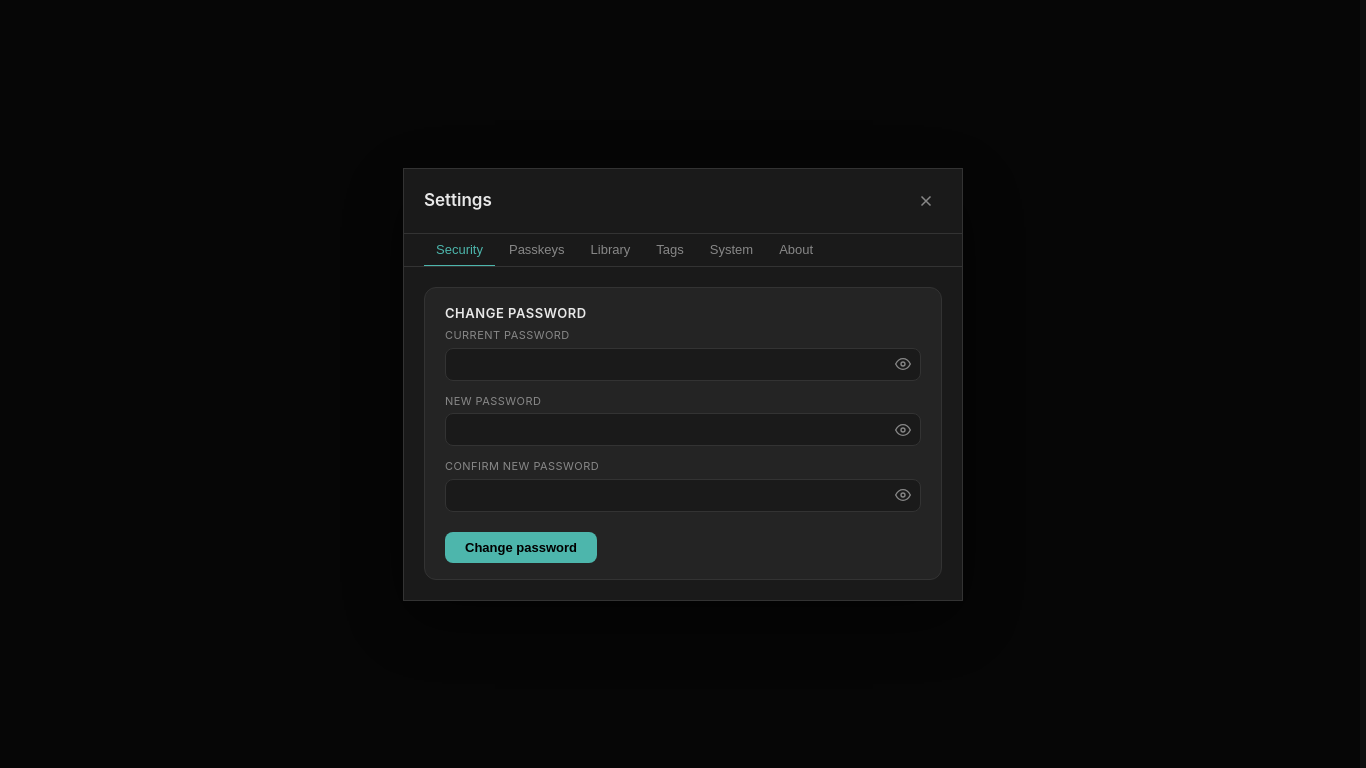
Test: SettingsModal — tags tab (display) › shows "No tags yet." when the list is empty
The image size is (1366, 768).
Click the tab "Tags" at (670, 250), box x1=644 y1=234 x2=696 y2=266
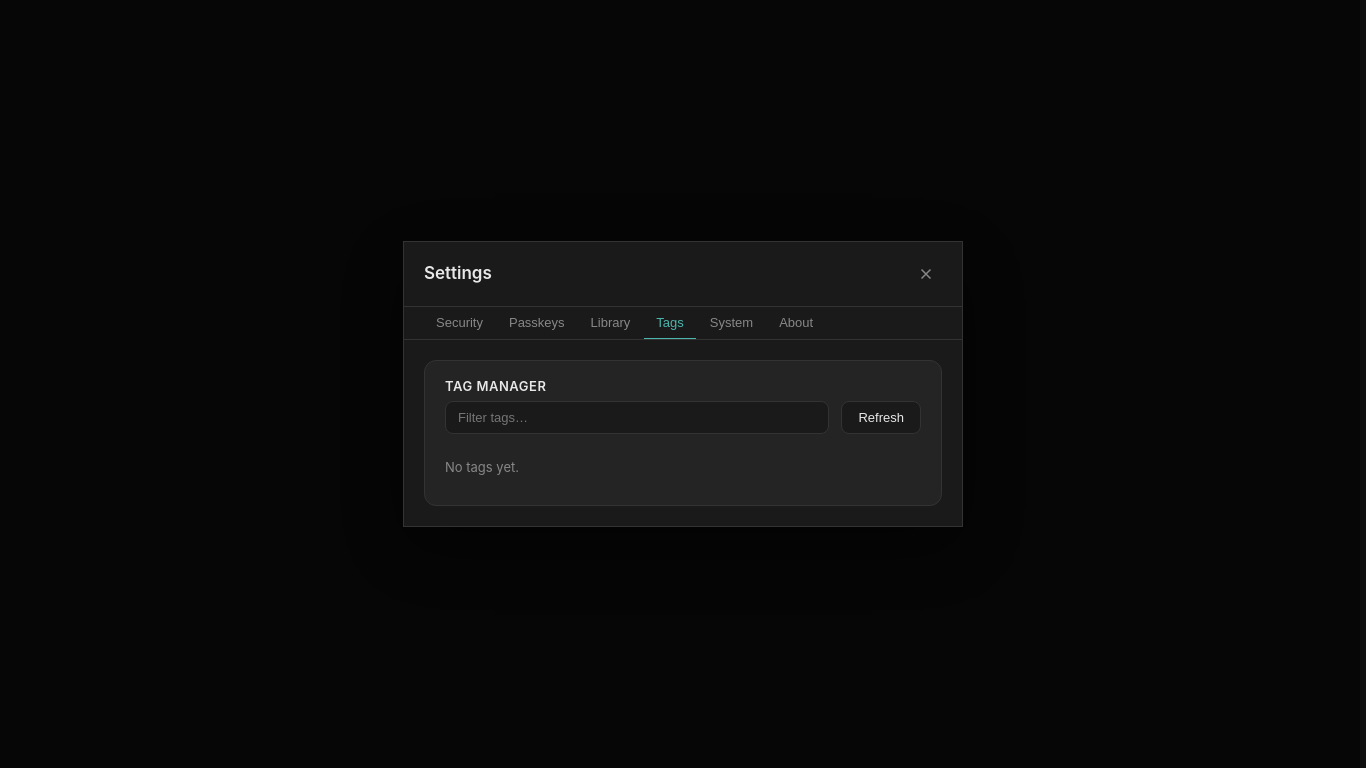
Expected: the text "No tags yet." is shown, x1=445 y1=458 x2=519 y2=474
